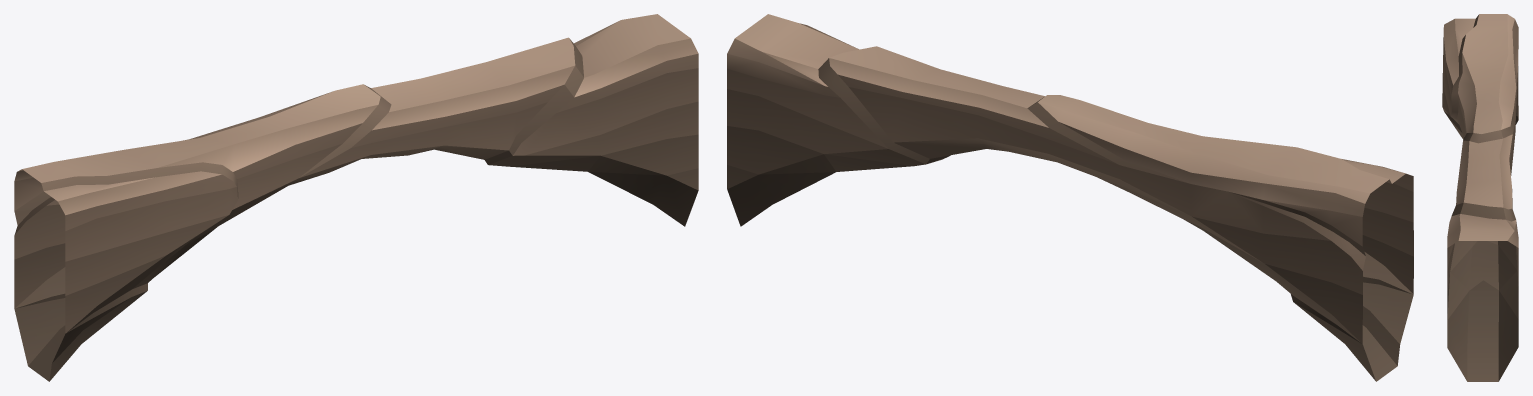
File: Canyon_Overpass_1B.fbx
3 views of the same model, side by side, from view 1: azimuth 30°, elevation 25°; view 2: azimuth 150°, elevation 25°; view 3: azimuth 270°, elevation 25° (orthographic). The views are drawn at different scales.
Parts seen in each view (by area): view 1: Canyon_Overpass_1B; view 2: Canyon_Overpass_1B; view 3: Canyon_Overpass_1B.
Boxes of the visible parts, x1=… form: Canyon_Overpass_1B: x1=14, y1=14, x2=698, y2=381; Canyon_Overpass_1B: x1=727, y1=14, x2=1413, y2=381; Canyon_Overpass_1B: x1=1442, y1=14, x2=1518, y2=381.
Bounding box in the file's own units: 40 × 11.95 × 5.68.
